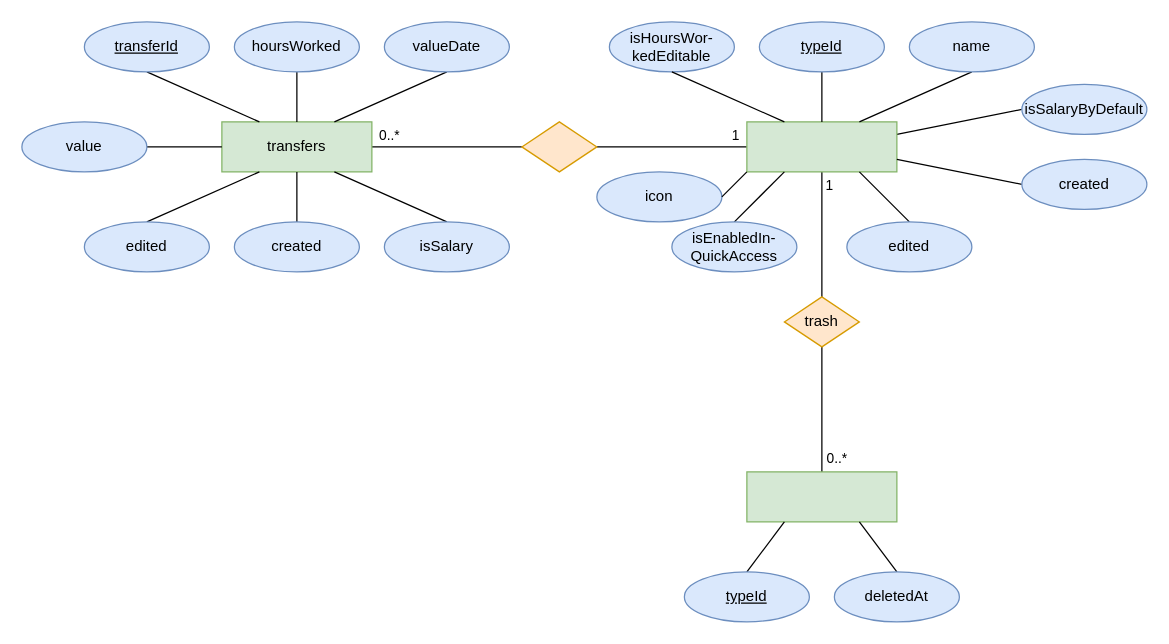
The diagram is 1169 pixels wide and 644 high, and some of its shapes have lost their labels. Each missing label, with the centre of its shape:
deletedTypes: point (821, 496)
of: point (559, 146)
types: point (821, 146)
